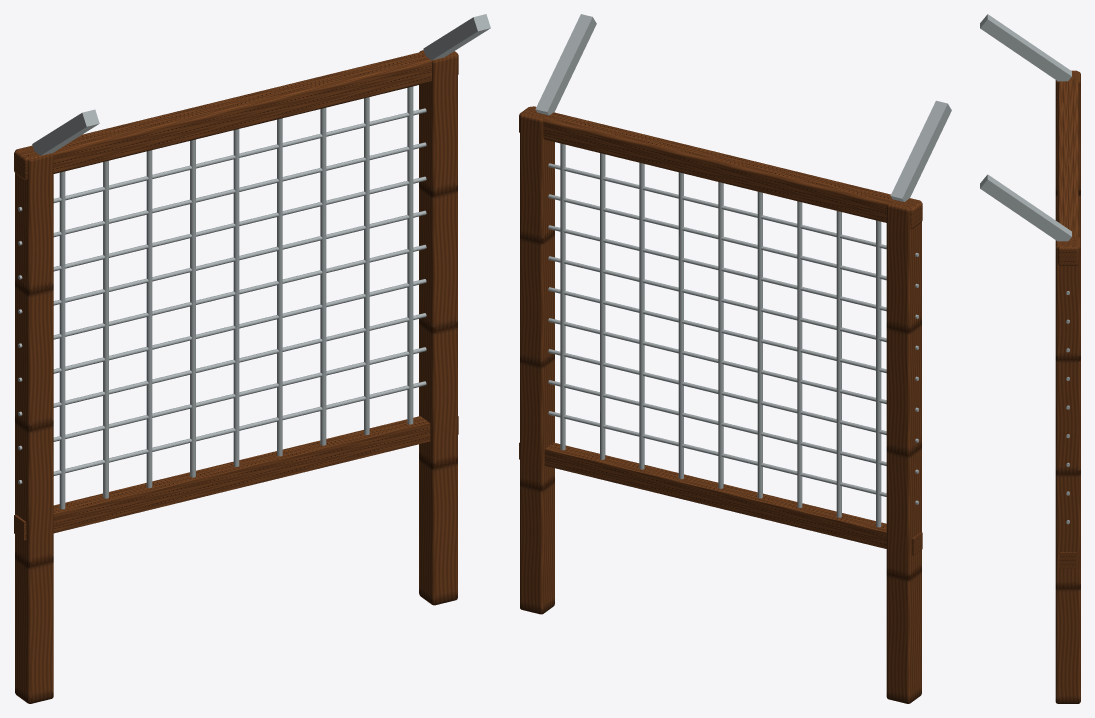
Rendered from fortified-compound-expansion-overhang-climb-guard-d6aa1ee9__27087.glb.
3 renders of one model, left to right at view 1: azimuth 30°, elevation 25°; view 2: azimuth 150°, elevation 25°; view 3: azimuth 270°, elevation 25°, orthographic. The views are drawn at different scales.
Visible parts, largest first — view 1: overhang-climb-guard; view 2: overhang-climb-guard; view 3: overhang-climb-guard.
Boxes of the visible parts, <box> form: overhang-climb-guard: <box>14,14,490,703</box>; overhang-climb-guard: <box>519,14,951,703</box>; overhang-climb-guard: <box>980,14,1080,703</box>.
Bounding box in the file's own units: 2 × 2.72 × 0.478.
Materials: 2 (1 with a texture image).
